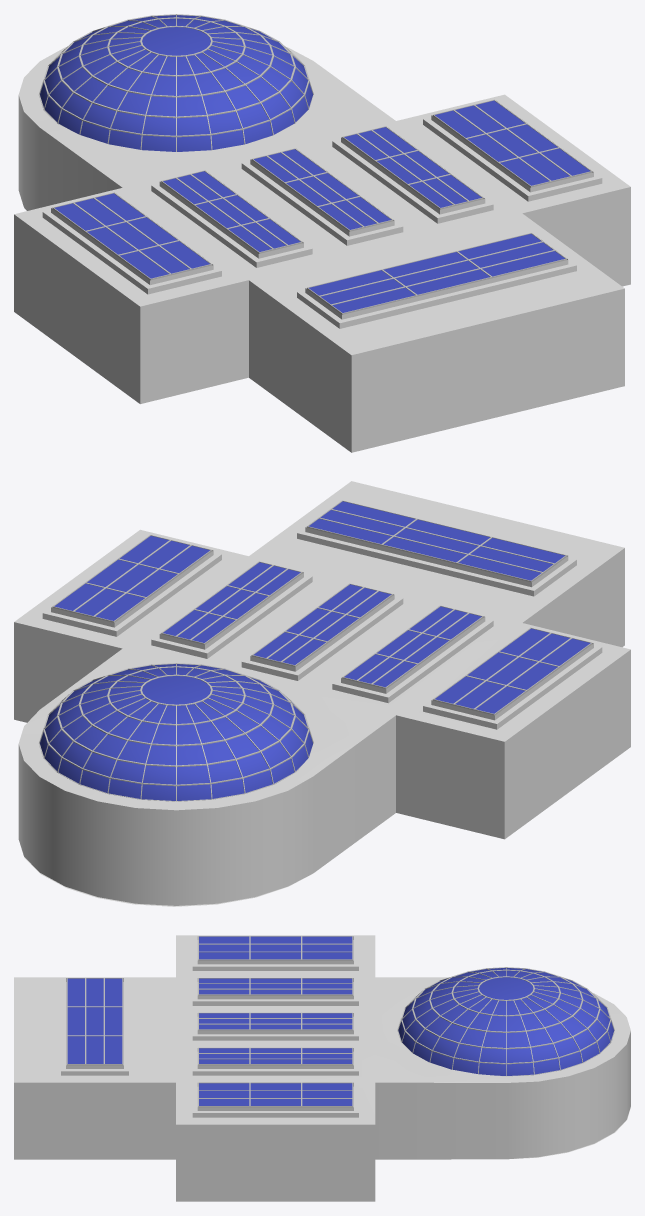
The model's file is Building.fbx.
The picture shows the model from 3 angles, top to bottom: view 1: azimuth 30°, elevation 25°; view 2: azimuth 150°, elevation 25°; view 3: azimuth 270°, elevation 25°; orthographic projection. The views are drawn at different scales.
Visible parts, largest first — view 1: Layer, Windows, Walls; view 2: Layer, Windows, Walls; view 3: Layer, Windows, Walls.
Part boxes in pixels (x1,y1,x2,y2): Layer: [14, 47, 630, 452]; Windows: [38, 14, 592, 314]; Walls: [53, 116, 591, 314]; Layer: [14, 481, 630, 906]; Windows: [38, 500, 592, 801]; Walls: [53, 527, 592, 727]; Layer: [14, 935, 630, 1201]; Windows: [67, 936, 614, 1106]; Walls: [66, 940, 401, 1107].
Bounding box in the file's own units: 2710 × 792 × 3736.
